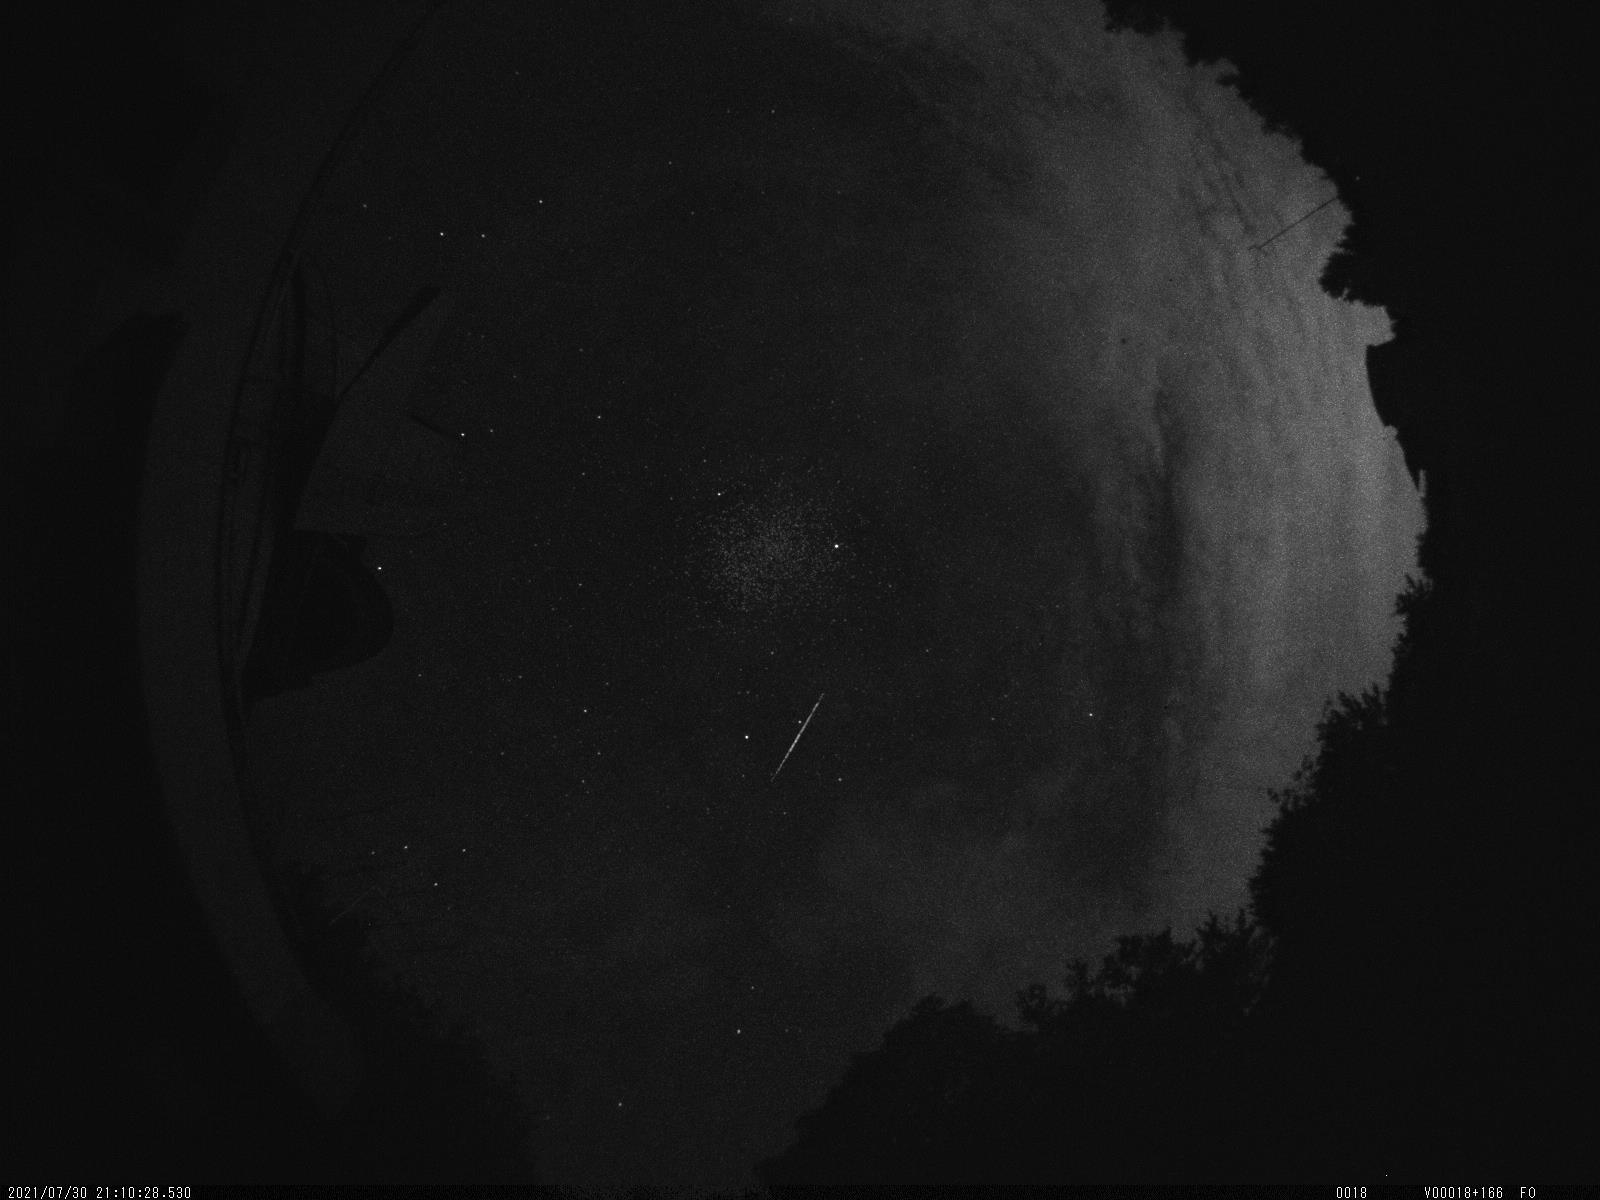Meteor: (763, 683, 831, 792)
